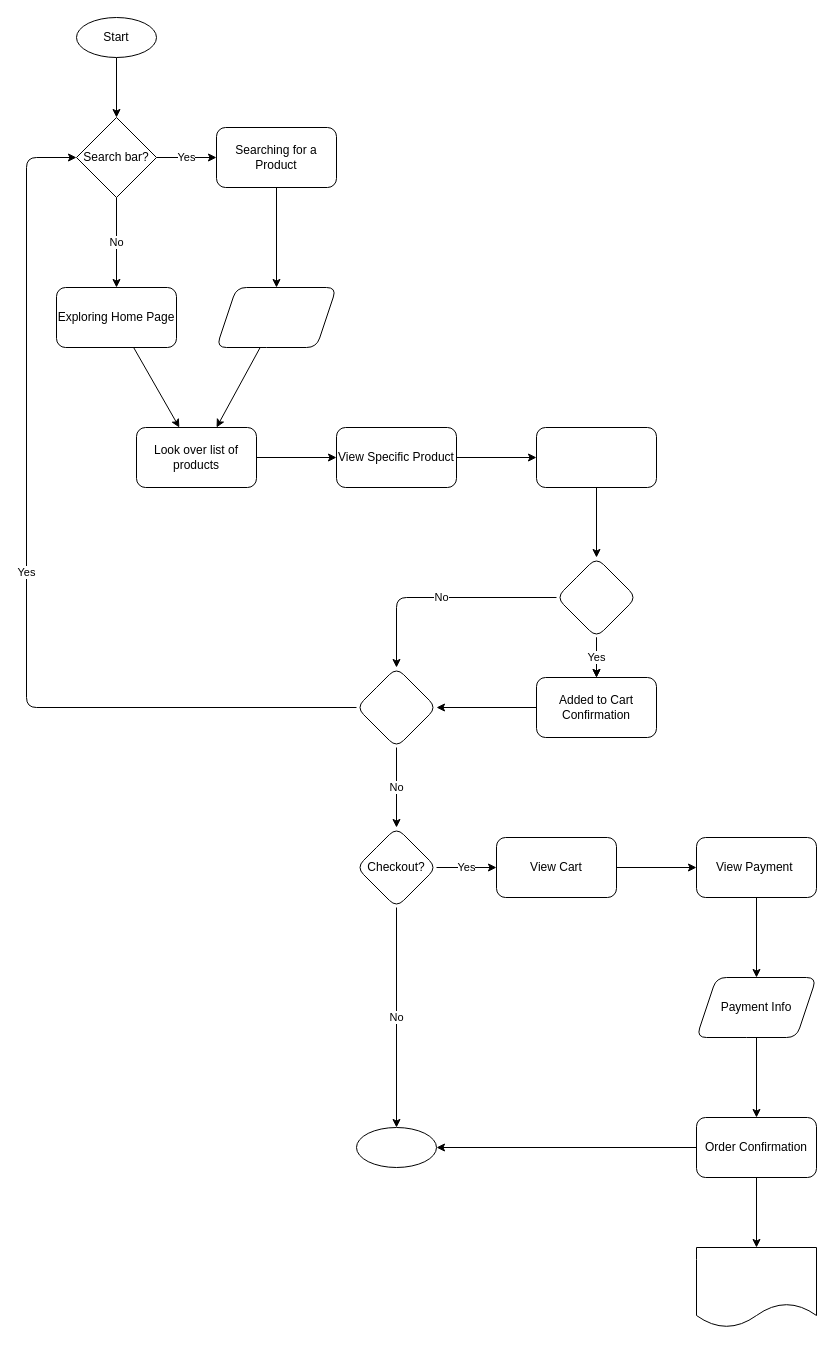
Some shapes in this 834 by 1345 pixel diagram are drawn without their labels. Each missing label, with the box of its shape:
Add Item?: (556, 556, 636, 638)
Continue Shopping?: (356, 666, 436, 748)
email: (696, 1246, 816, 1328)
Input Product to Search: (216, 286, 336, 348)
Leave Website: (356, 1126, 436, 1168)
Specific Product Webpage: (536, 426, 656, 488)
